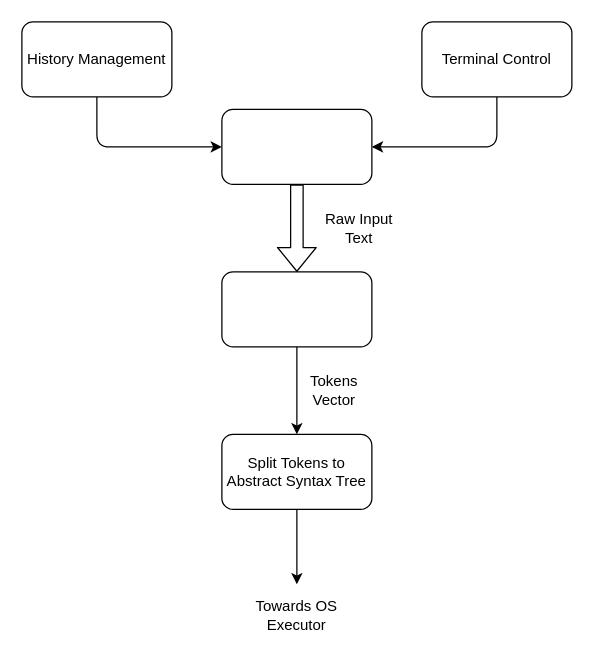
This 594x669 diagram has some shape labels left out. Each missing label, with the centre of its shape:
"Input" belongs at (296,146).
"Tokenizer" belongs at (296,309).
